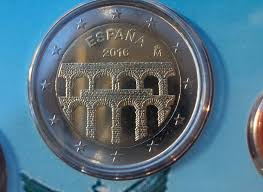eur002: (27, 1, 214, 180)
